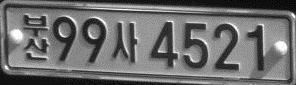1: (245, 24, 271, 71)
2: (214, 23, 239, 70)
4: (151, 20, 178, 68)
5: (183, 22, 208, 68)
9: (81, 17, 107, 63), (51, 15, 76, 62)
부산_V: (22, 14, 49, 60)
사: (111, 22, 137, 63)
